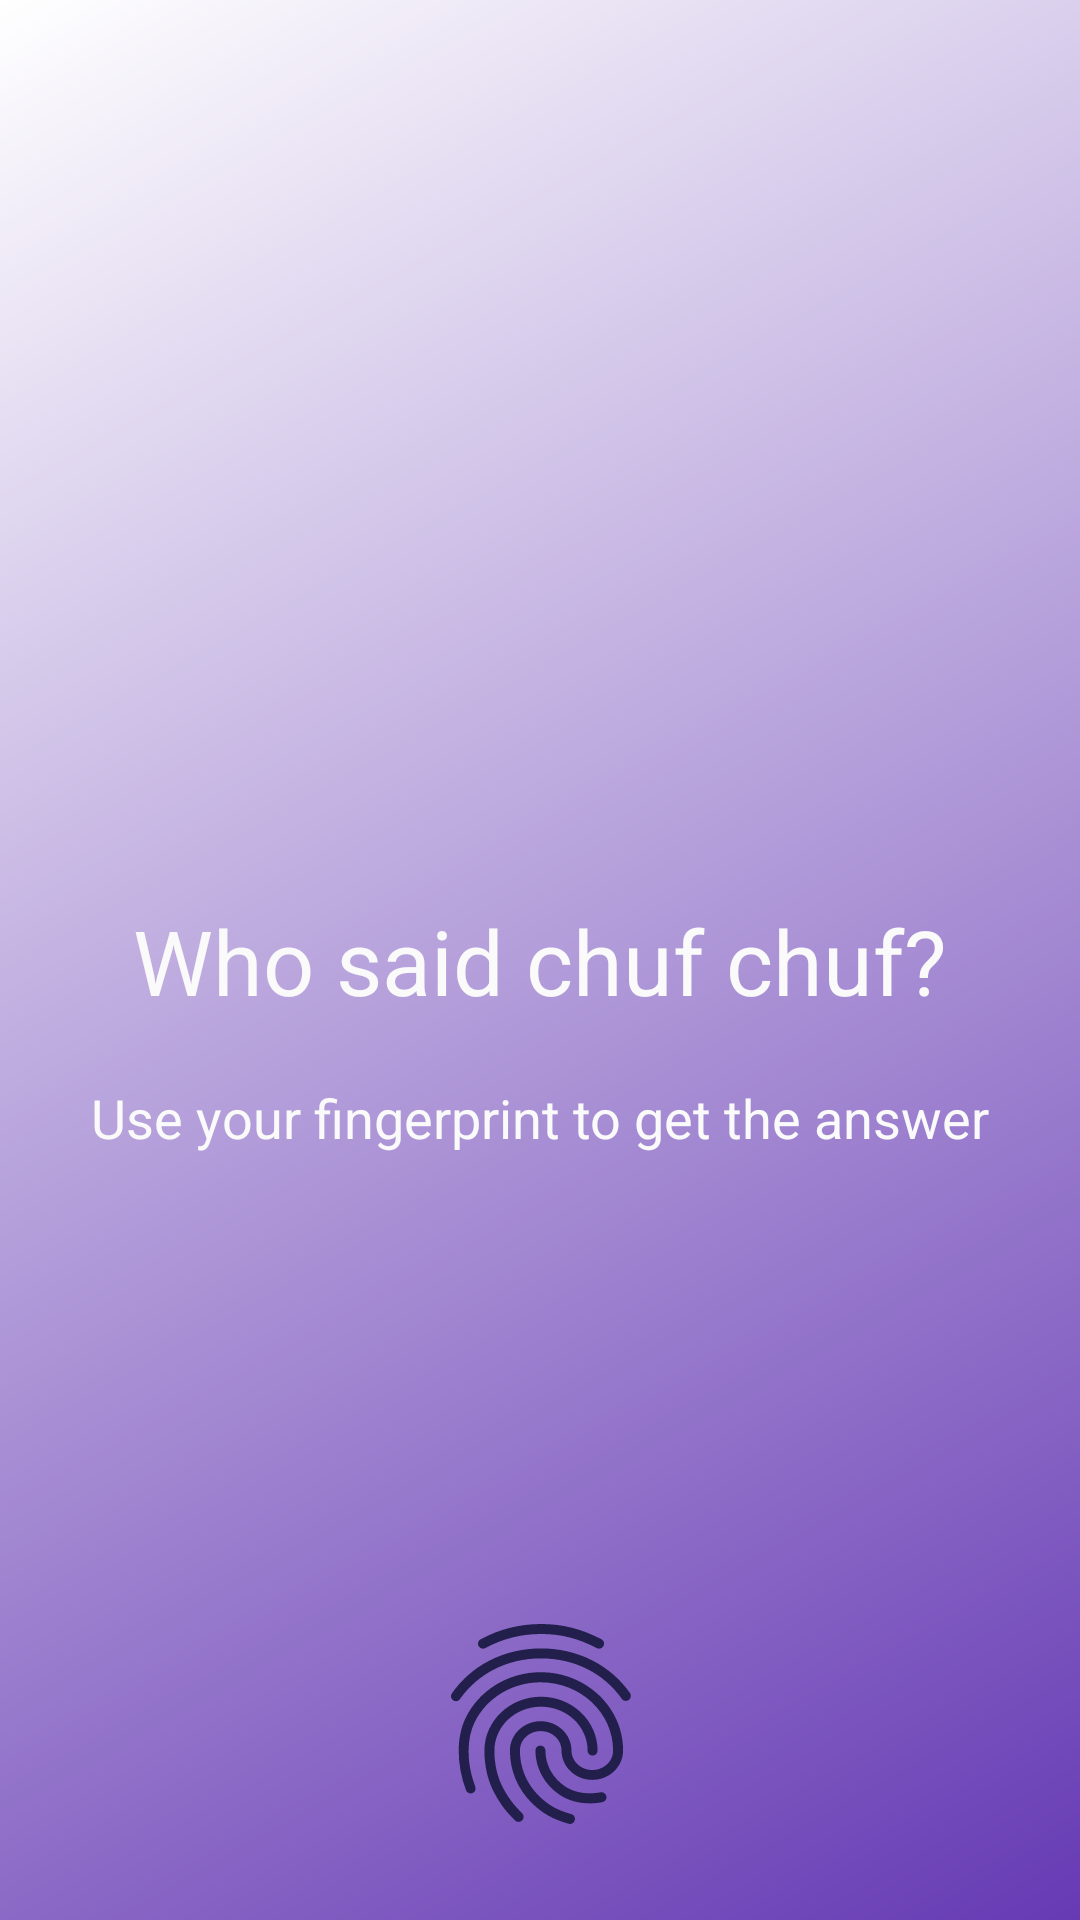

Icon click points for this 1080*1920 phone screenshot, format point (x, y):
fingerprint: point (541, 1734)
